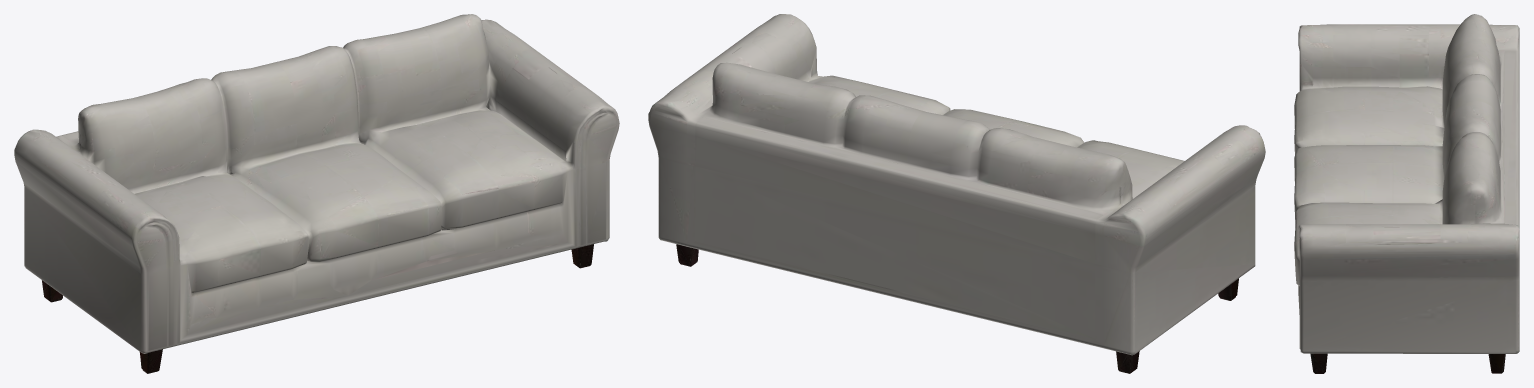
File: sofa.glb
The picture shows the model from 3 angles, left to right: view 1: azimuth 30°, elevation 25°; view 2: azimuth 150°, elevation 25°; view 3: azimuth 270°, elevation 25°; orthographic projection. The views are drawn at different scales.
Bounding box in the file's own units: 1.91 × 0.7241 × 0.8376.
1 material, 1 textured.
